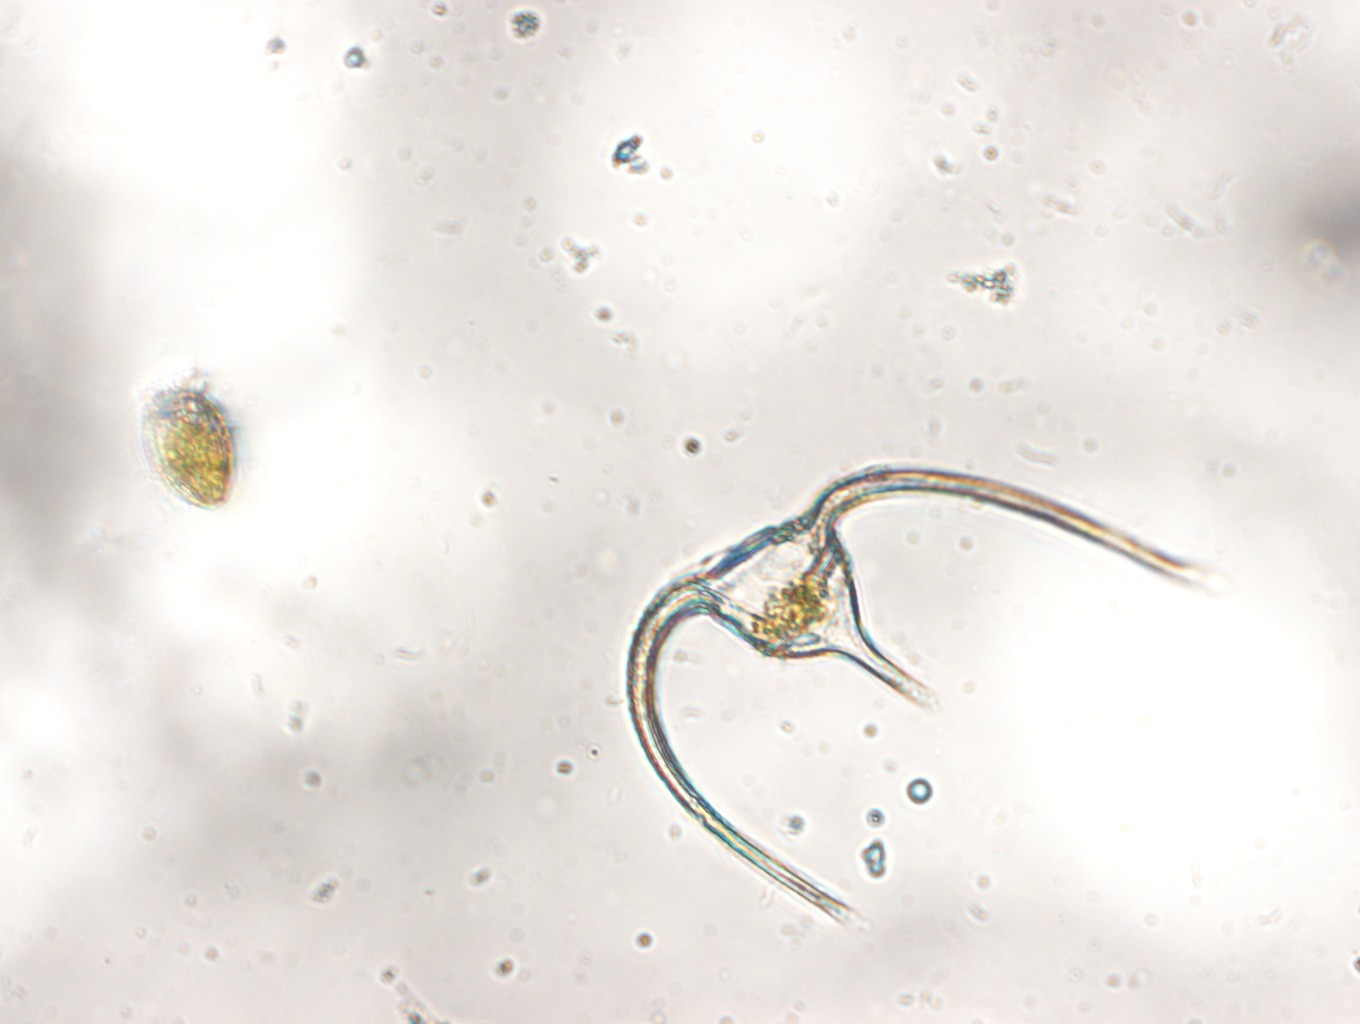ceratium trichoceros: (620, 452, 1205, 929)
